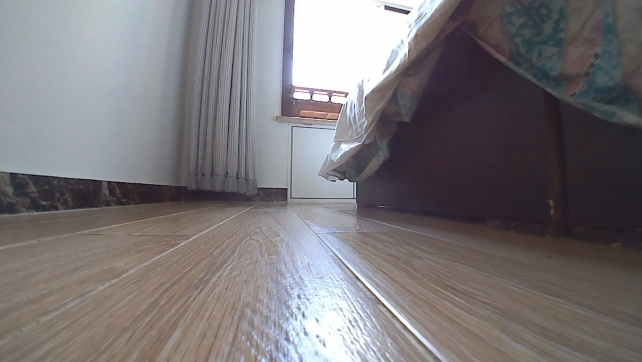bed1: (315, 0, 641, 248)
